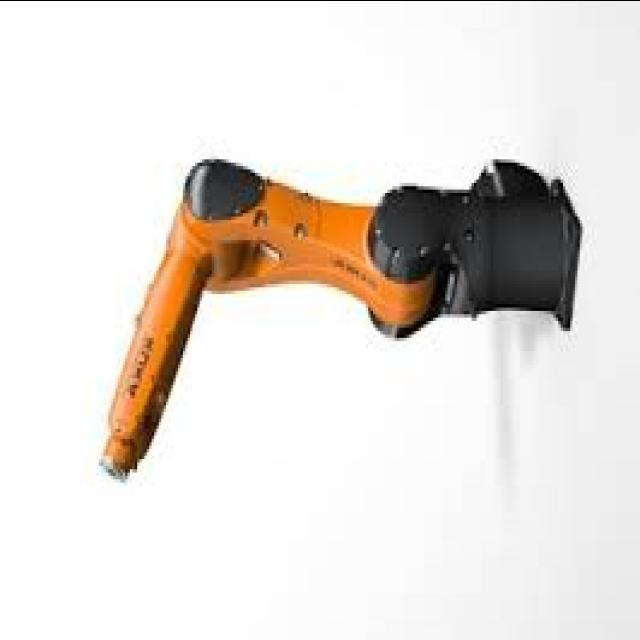Robotic-arm: (94, 140, 584, 484)
